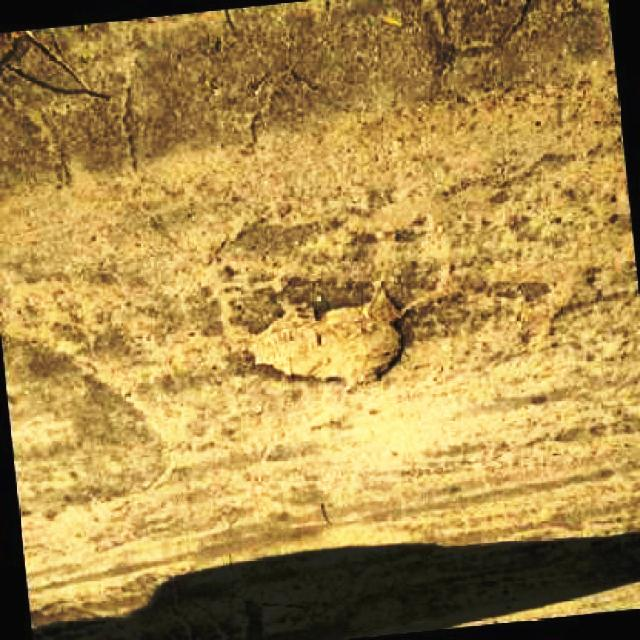pothole: (250, 288, 412, 389)
